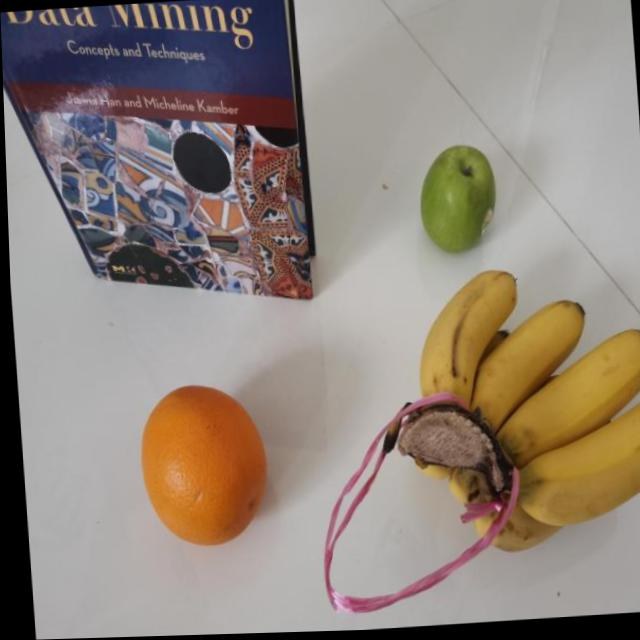Apple: (410, 144, 499, 261)
Banana: (375, 260, 640, 561)
Book: (0, 0, 314, 320)
Orange: (131, 380, 270, 550)
